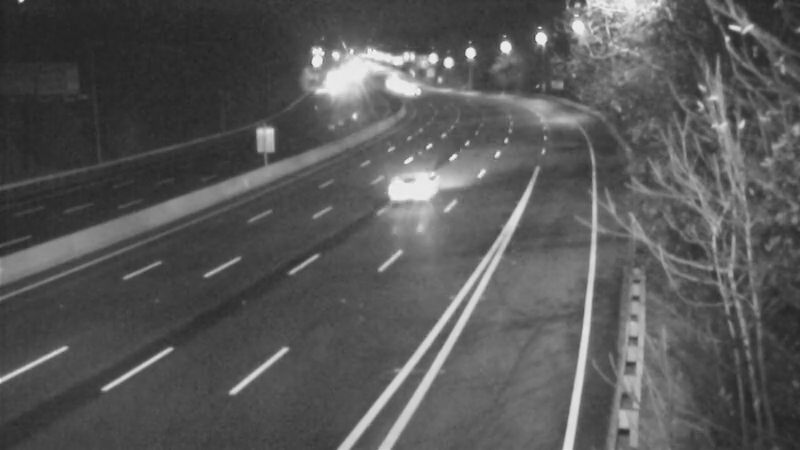vehicle: (376, 151, 456, 231), (366, 60, 416, 110), (387, 67, 437, 117)
